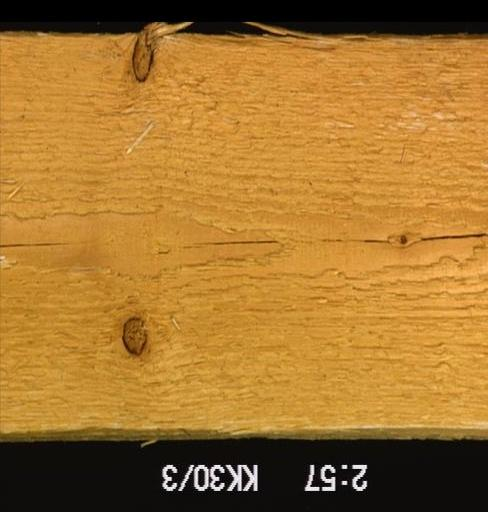dry_knot: (121, 312, 149, 357)
edge_knot: (129, 32, 156, 83)
split: (176, 235, 483, 259), (0, 235, 96, 258)
wave: (1, 423, 486, 438)
